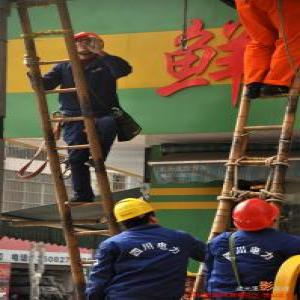red: (232, 198, 280, 234), (69, 31, 103, 56)
yellow: (113, 198, 158, 230)
